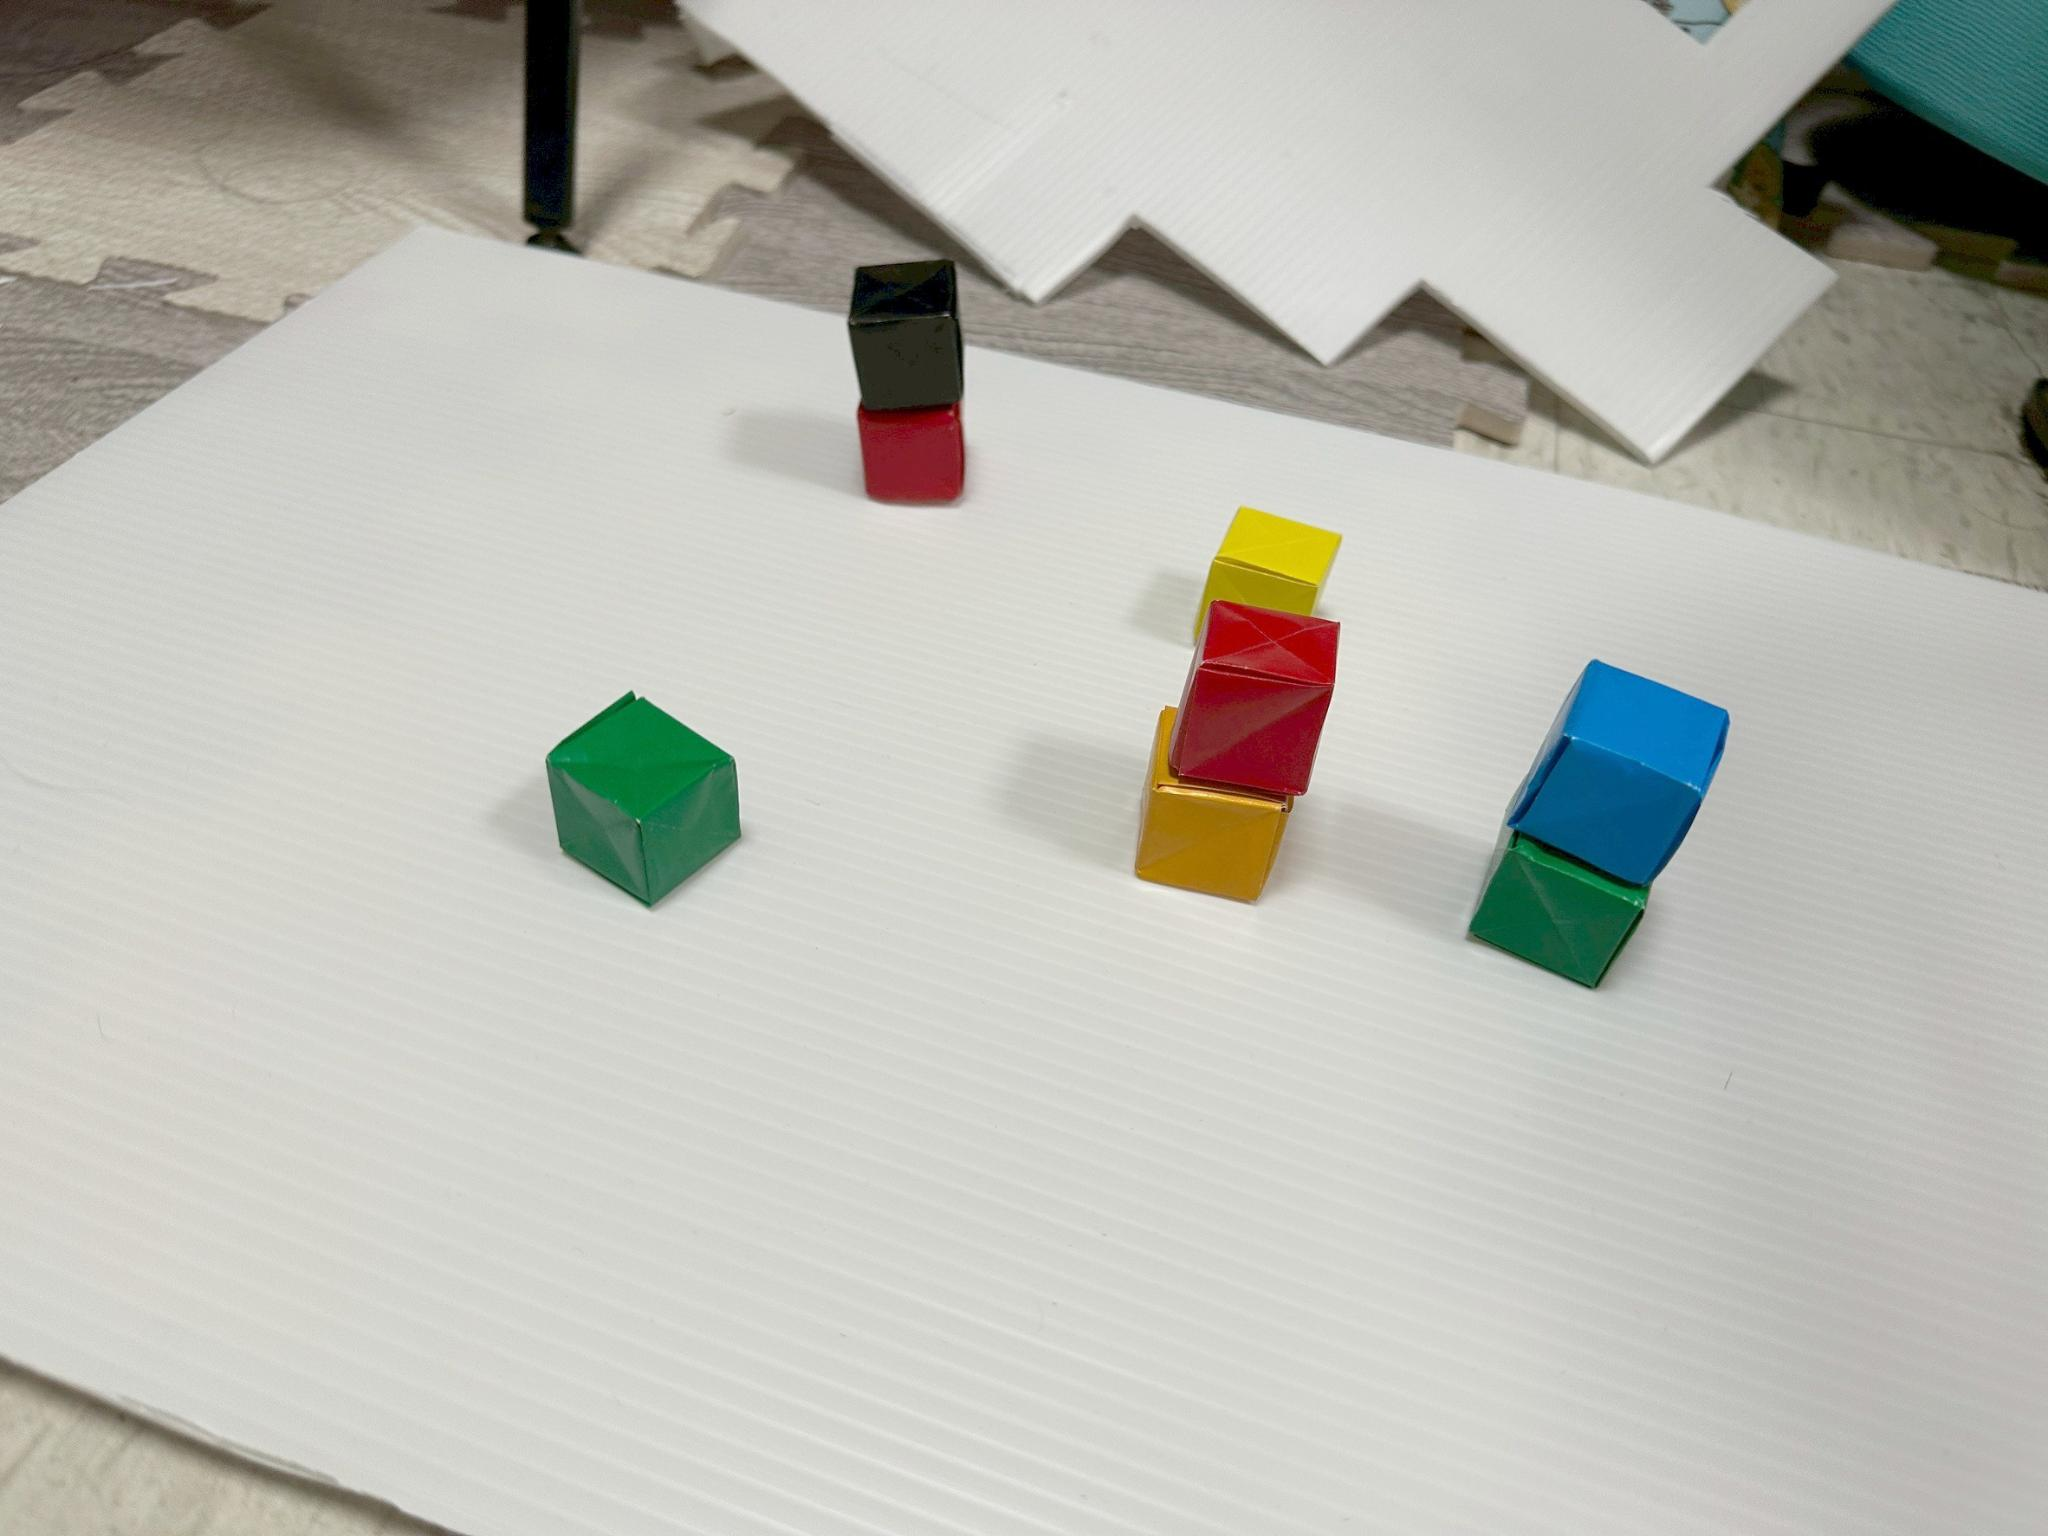cube: (1508, 660, 1729, 886), (547, 694, 740, 905), (1469, 792, 1648, 987), (1169, 600, 1338, 797), (1135, 708, 1288, 902), (1195, 507, 1342, 647), (848, 261, 964, 411), (858, 403, 964, 505)
